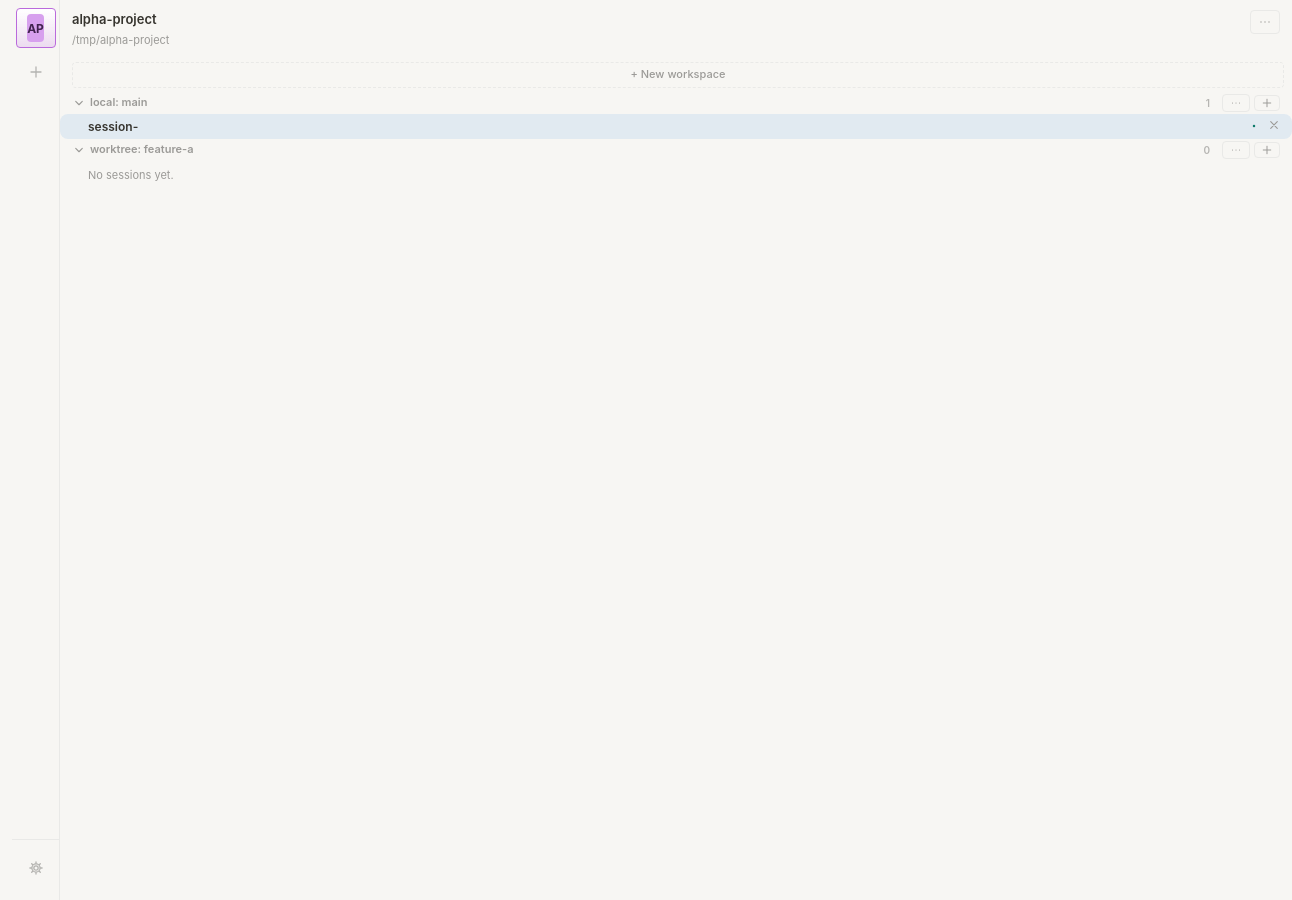
Test: IdeLeftPanel › shows a worktree action error when deleting fails
Click the button with test id "worktree-menu-trigger-wt-1" at [1236, 150], box 1222,141 -> 1250,159
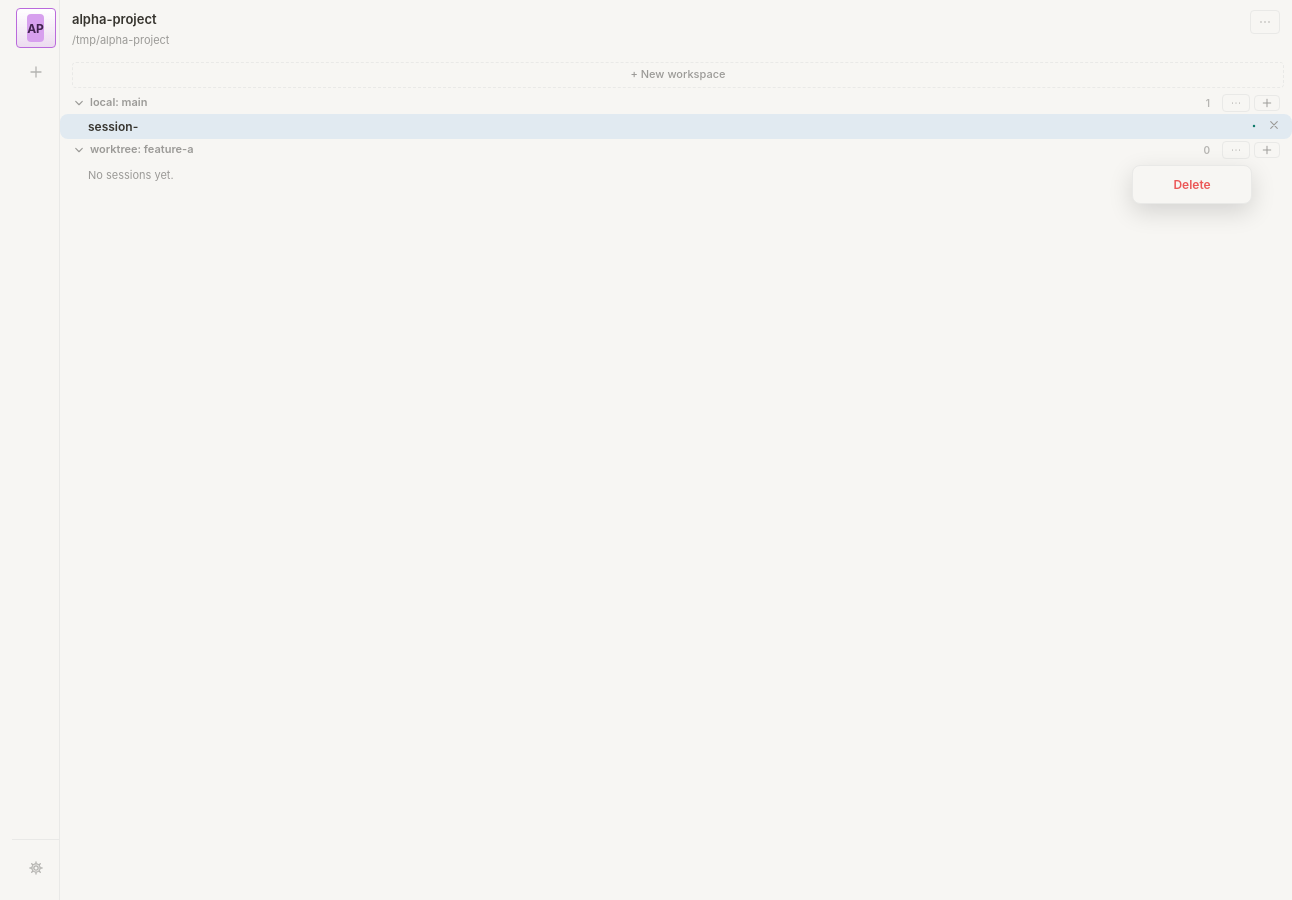
Click the button with test id "worktree-delete-wt-1" at [1192, 184], box 1137,170 -> 1247,199
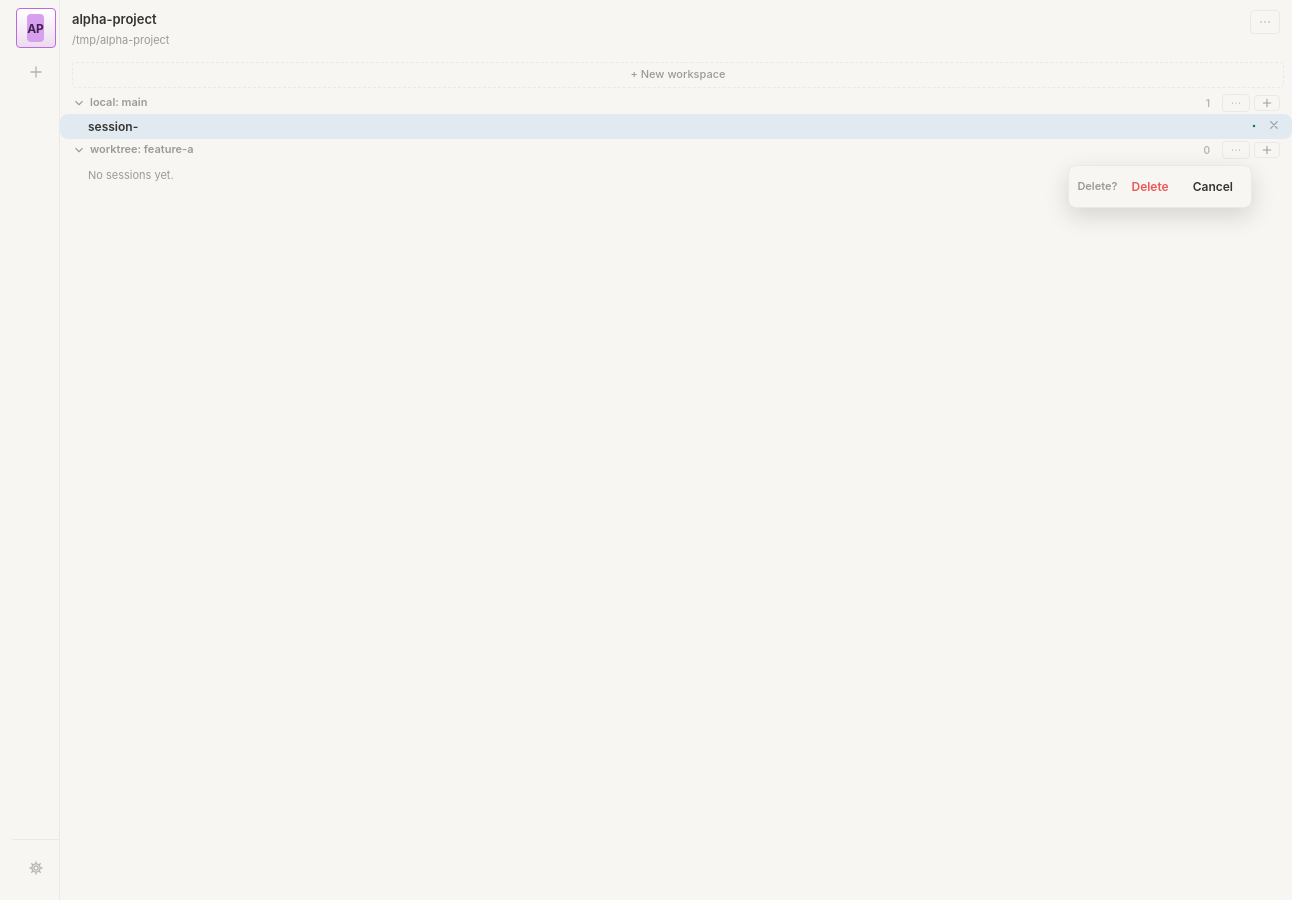
Click the button with test id "worktree-confirm-delete-wt-1" at [1150, 186], box 1122,172 -> 1179,201
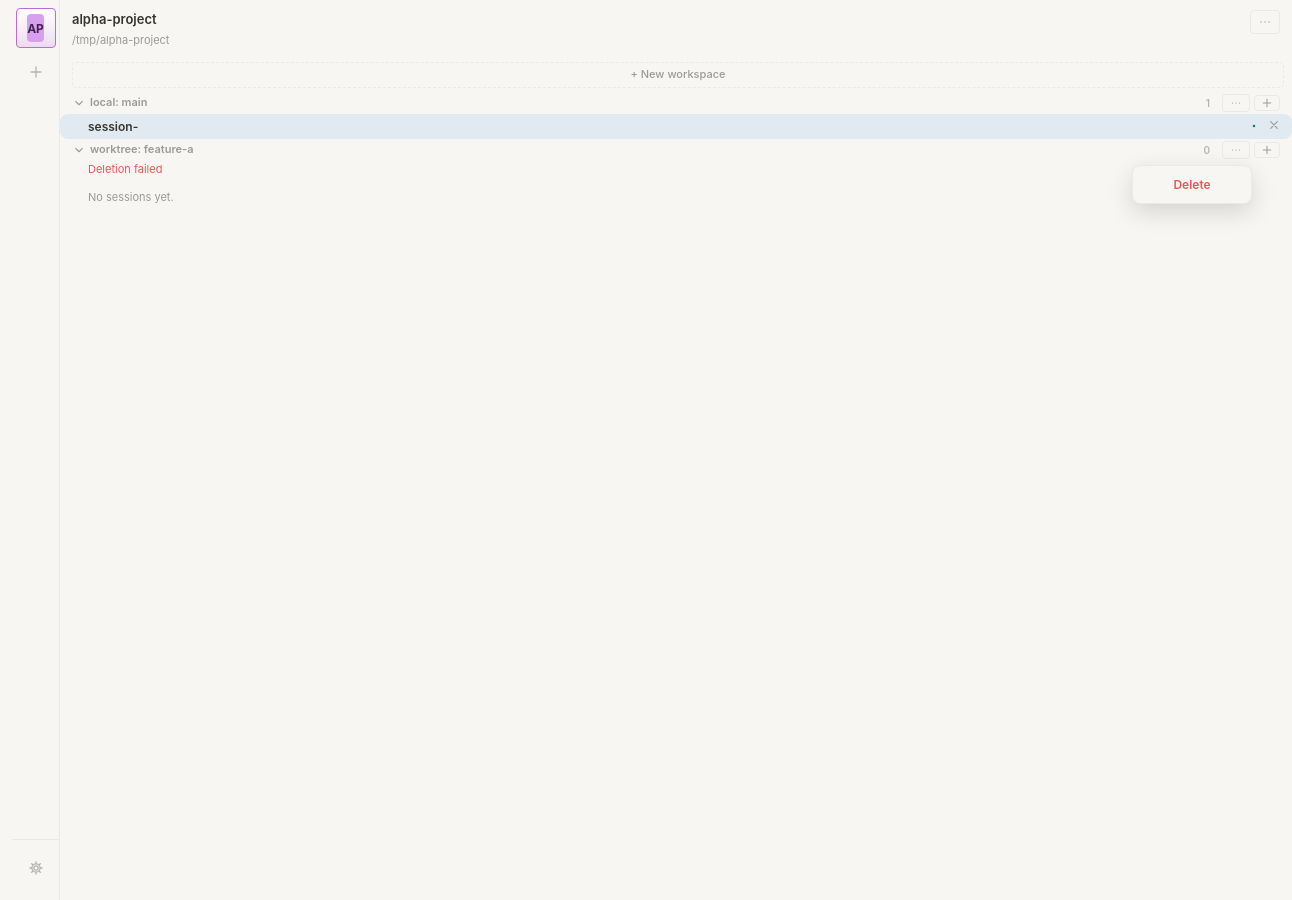
Expected: the text with test id "worktree-error-wt-1" reads "Deletion failed", 88,162 -> 162,176
